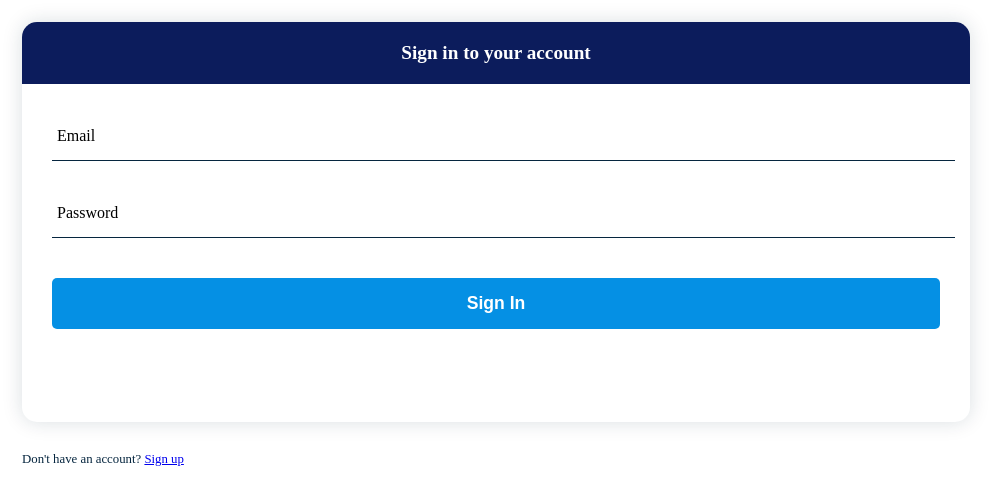
Sign In Form › handles errors from auth signInHandler function
This screenshot has width=993, height=483.
Type "name@domain.com" into the field labelled "Email" at (504, 140), box x1=52 y1=119 x2=955 y2=161
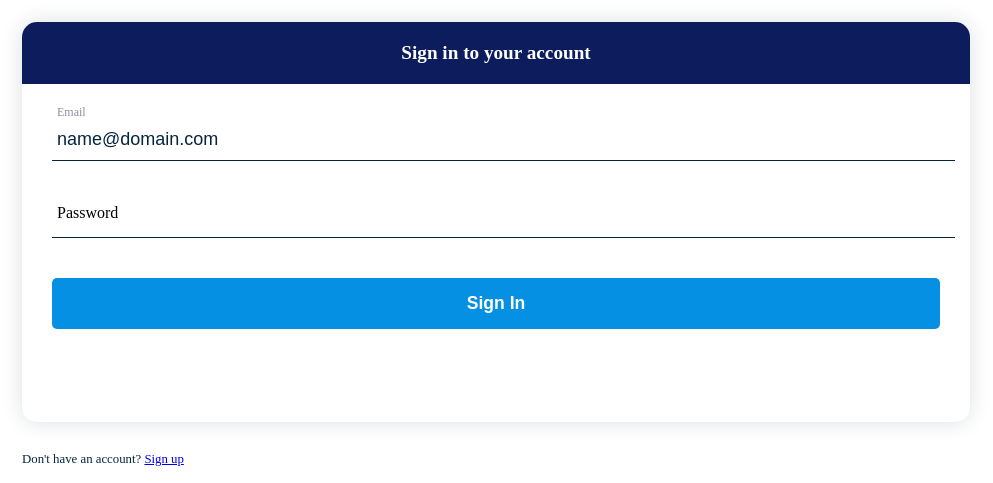
Type "dummypass" into the password field labelled "Password" at (504, 217), box x1=52 y1=196 x2=955 y2=238
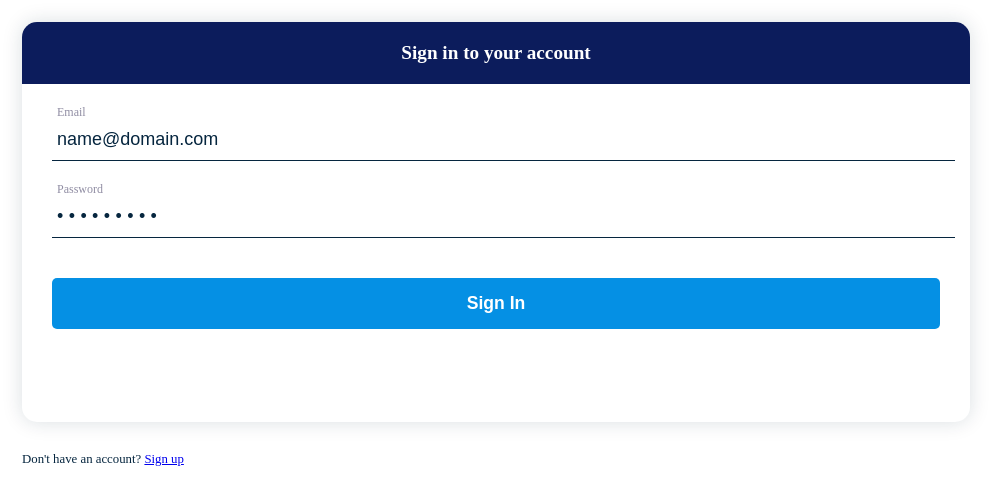
Click the button "Sign In" at (496, 304), box x1=52 y1=278 x2=940 y2=329
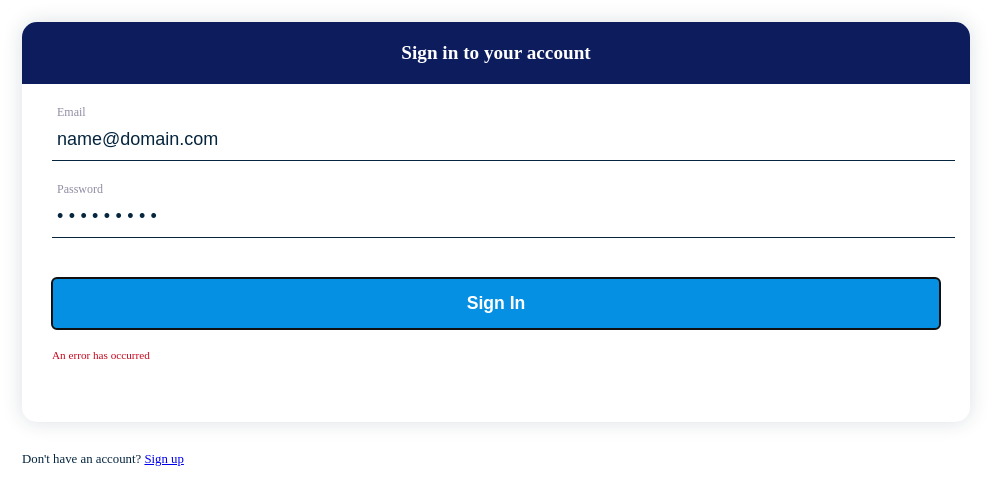
Expected: the text with test id "auth-error" reads "An error has occurred", x1=52 y1=349 x2=150 y2=361
